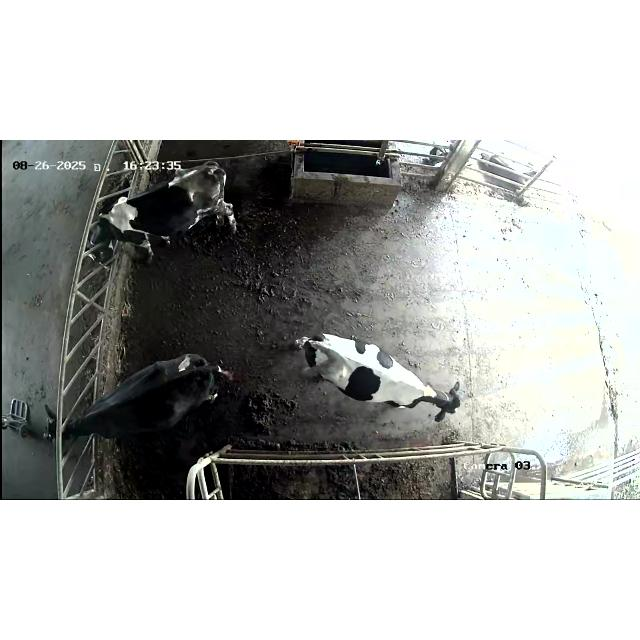eat: (54, 186, 146, 286), (31, 392, 115, 464)
stand: (283, 322, 475, 432)
